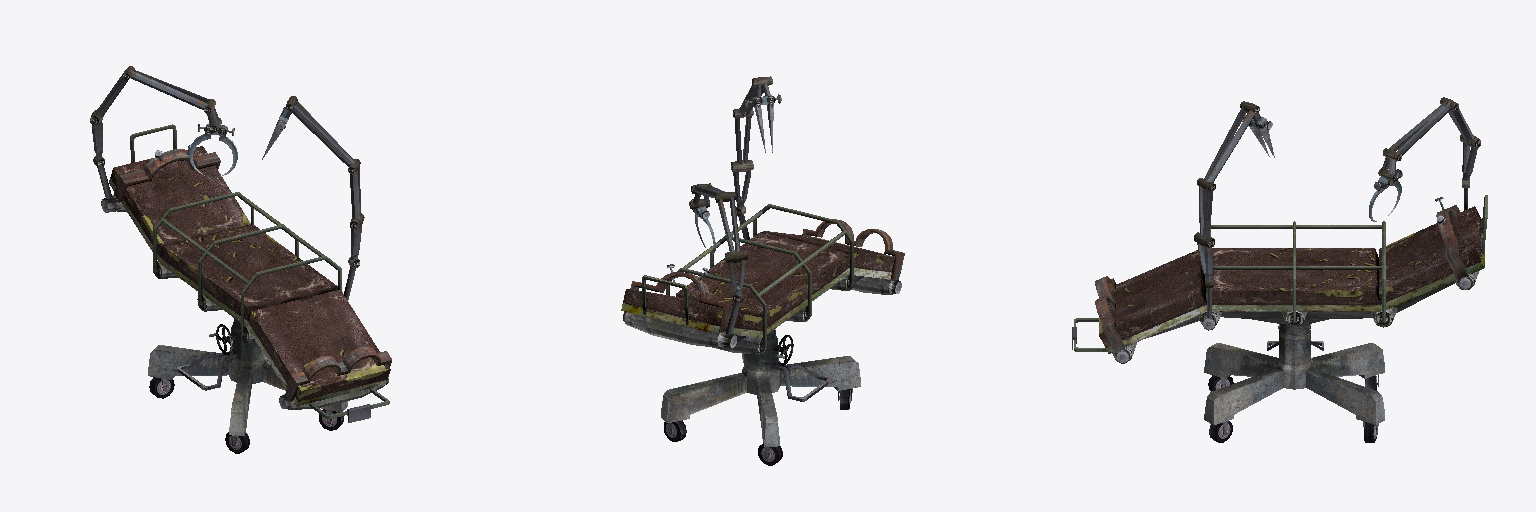
3 views of the same model, side by side, from view 1: azimuth 30°, elevation 25°; view 2: azimuth 150°, elevation 25°; view 3: azimuth 270°, elevation 25° (orthographic).
Parts seen in each view (by area): view 1: OBJ_Medical_Theatre_Bed; view 2: OBJ_Medical_Theatre_Bed; view 3: OBJ_Medical_Theatre_Bed.
Boxes of the visible parts, box(x1,y1,x2,y2) form: OBJ_Medical_Theatre_Bed: box(90, 66, 391, 453); OBJ_Medical_Theatre_Bed: box(621, 76, 904, 465); OBJ_Medical_Theatre_Bed: box(1072, 97, 1487, 442).
Bounding box in the file's own units: 120 × 256 × 295.
1 materials, 1 textured.